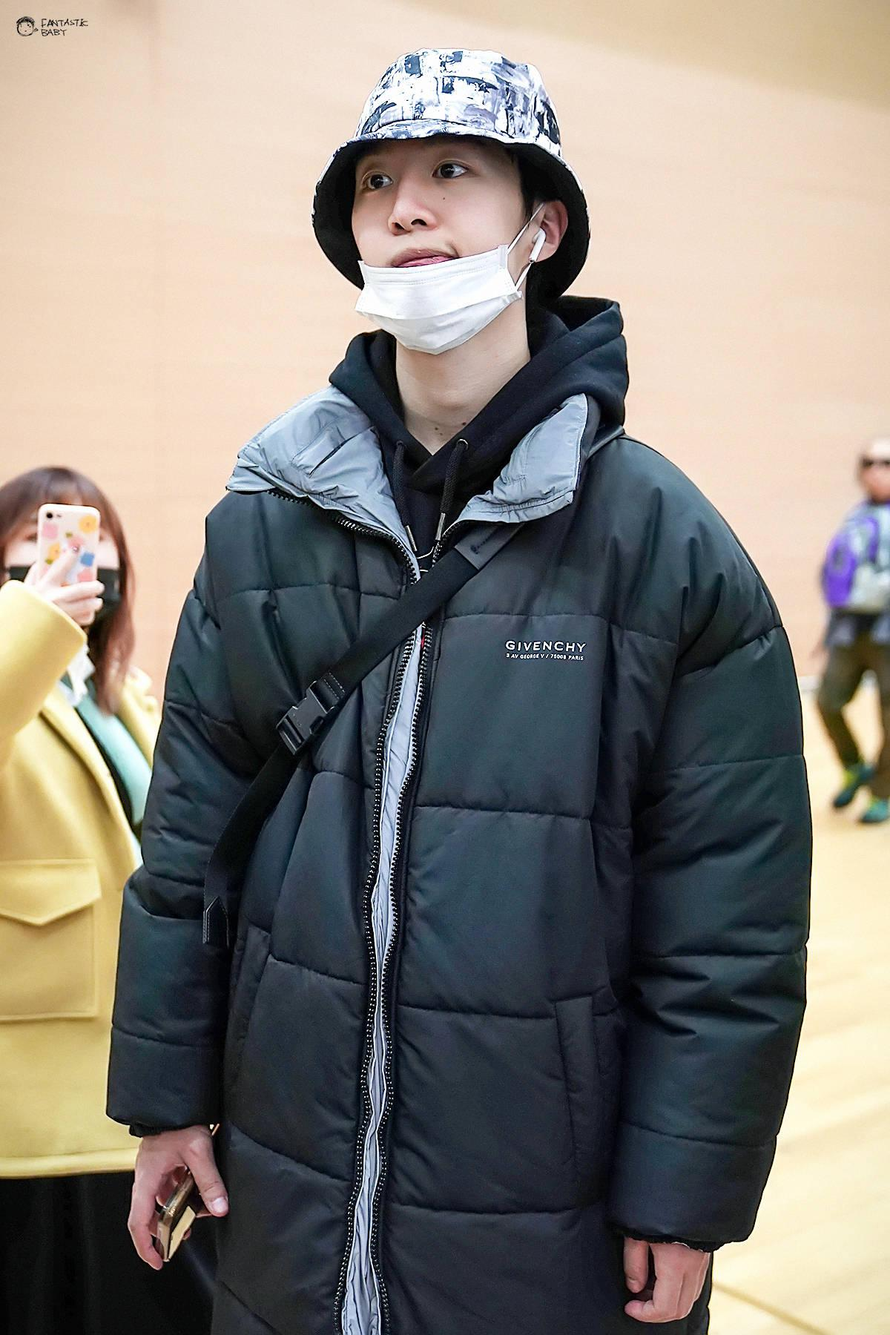NONE: (857, 447, 890, 498)
OK: (4, 504, 125, 648)
WRONG: (352, 129, 529, 342)
